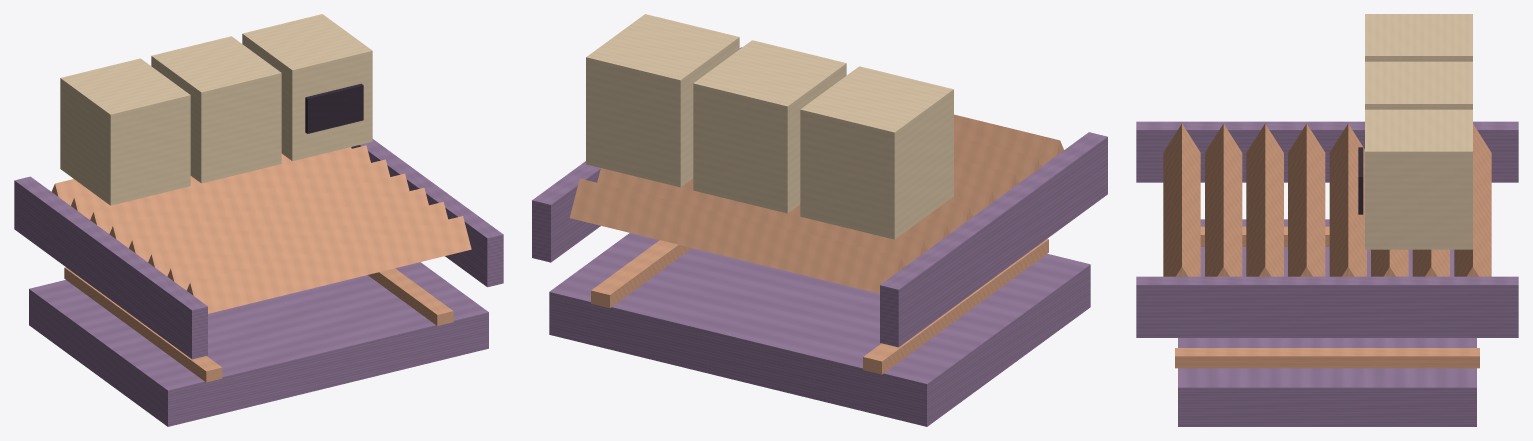
Rendered from atlas100-s084-a01.lod2.glb.
The picture shows the model from 3 angles, left to right: view 1: azimuth 30°, elevation 25°; view 2: azimuth 150°, elevation 25°; view 3: azimuth 270°, elevation 25°; orthographic projection. The views are drawn at different scales.
Visible parts, largest first — view 1: atlas100-s084-a01:part-000, atlas100-s084-a01:part-013, atlas100-s084-a01:part-015, atlas100-s084-a01:part-011, atlas100-s084-a01:part-017, atlas100-s084-a01:part-010, atlas100-s084-a01:part-009, atlas100-s084-a01:part-006, atlas100-s084-a01:part-008, atlas100-s084-a01:part-005, atlas100-s084-a01:part-007, atlas100-s084-a01:part-012 (+5 smaller); view 2: atlas100-s084-a01:part-000, atlas100-s084-a01:part-013, atlas100-s084-a01:part-017, atlas100-s084-a01:part-015, atlas100-s084-a01:part-011, atlas100-s084-a01:part-003, atlas100-s084-a01:part-004, atlas100-s084-a01:part-012, atlas100-s084-a01:part-001, atlas100-s084-a01:part-002, atlas100-s084-a01:part-010, atlas100-s084-a01:part-009 (+4 smaller); view 3: atlas100-s084-a01:part-012, atlas100-s084-a01:part-000, atlas100-s084-a01:part-017, atlas100-s084-a01:part-011, atlas100-s084-a01:part-002, atlas100-s084-a01:part-015, atlas100-s084-a01:part-009, atlas100-s084-a01:part-010, atlas100-s084-a01:part-007, atlas100-s084-a01:part-008, atlas100-s084-a01:part-013, atlas100-s084-a01:part-006 (+5 smaller).
Boxes of the visible parts, x1,y1,x2,y2 form: atlas100-s084-a01:part-000: [29, 262, 488, 426]; atlas100-s084-a01:part-013: [60, 58, 190, 205]; atlas100-s084-a01:part-015: [151, 36, 281, 183]; atlas100-s084-a01:part-011: [14, 176, 207, 359]; atlas100-s084-a01:part-017: [242, 14, 372, 161]; atlas100-s084-a01:part-010: [186, 216, 471, 313]; atlas100-s084-a01:part-009: [167, 202, 448, 290]; atlas100-s084-a01:part-006: [109, 159, 390, 248]; atlas100-s084-a01:part-008: [148, 188, 428, 276]; atlas100-s084-a01:part-005: [90, 145, 370, 233]; atlas100-s084-a01:part-007: [129, 173, 409, 261]; atlas100-s084-a01:part-012: [351, 139, 503, 287]; atlas100-s084-a01:part-000: [549, 233, 1090, 426]; atlas100-s084-a01:part-013: [800, 66, 953, 239]; atlas100-s084-a01:part-017: [586, 14, 739, 187]; atlas100-s084-a01:part-015: [693, 40, 846, 213]; atlas100-s084-a01:part-011: [880, 132, 1107, 347]; atlas100-s084-a01:part-003: [569, 178, 904, 293]; atlas100-s084-a01:part-004: [597, 168, 927, 266]; atlas100-s084-a01:part-012: [532, 47, 741, 262]; atlas100-s084-a01:part-001: [863, 239, 1048, 374]; atlas100-s084-a01:part-002: [591, 240, 691, 308]; atlas100-s084-a01:part-010: [954, 114, 1063, 166]; atlas100-s084-a01:part-009: [954, 136, 1041, 182]; atlas100-s084-a01:part-012: [1136, 276, 1518, 337]; atlas100-s084-a01:part-000: [1178, 219, 1476, 426]; atlas100-s084-a01:part-017: [1365, 109, 1472, 249]; atlas100-s084-a01:part-011: [1136, 121, 1518, 182]; atlas100-s084-a01:part-002: [1175, 348, 1479, 368]; atlas100-s084-a01:part-015: [1365, 61, 1472, 109]; atlas100-s084-a01:part-009: [1205, 123, 1242, 276]; atlas100-s084-a01:part-010: [1163, 124, 1200, 276]; atlas100-s084-a01:part-007: [1288, 123, 1325, 276]; atlas100-s084-a01:part-008: [1246, 123, 1283, 276]; atlas100-s084-a01:part-013: [1365, 14, 1472, 61]; atlas100-s084-a01:part-006: [1329, 123, 1366, 276].
Size of the model in its own units: 2.4 by 1.73 by 2.3.
4 materials, 4 textured.
